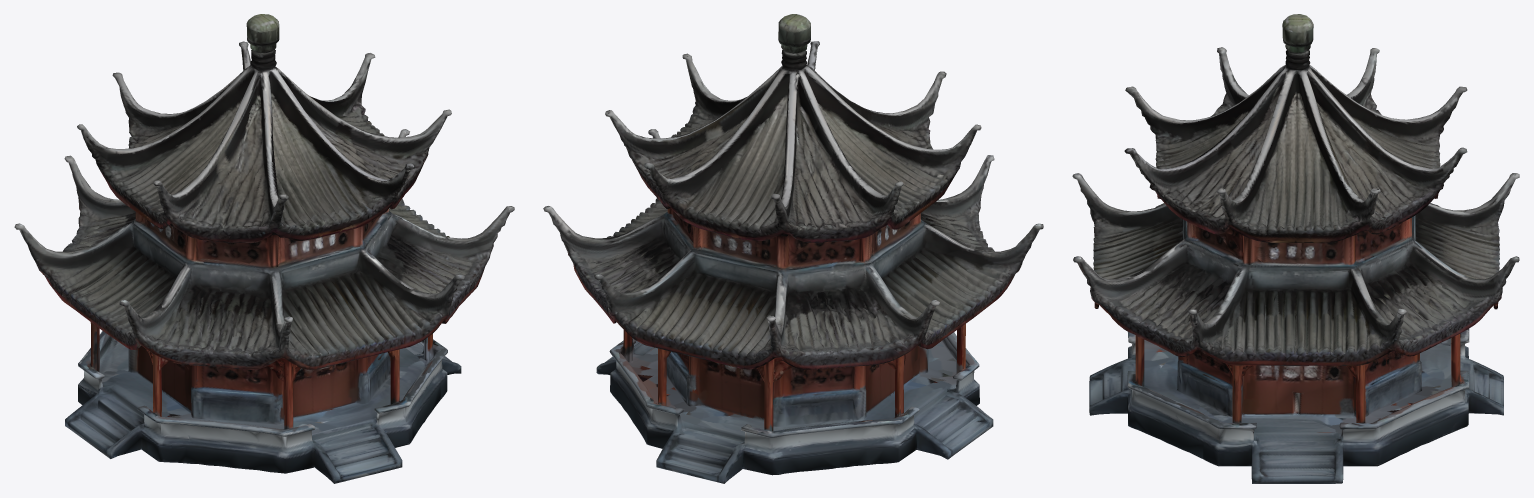
File: guoruting.glb
3 views of the same model, side by side, from view 1: azimuth 30°, elevation 25°; view 2: azimuth 150°, elevation 25°; view 3: azimuth 270°, elevation 25° (orthographic).
Visible parts, largest first — view 1: texture_v128.001_0; view 2: texture_v128.001_0; view 3: texture_v128.001_0.
Boxes of the visible parts, left/top/right/bottom form: texture_v128.001_0: left=14, top=14, right=514, bottom=483; texture_v128.001_0: left=543, top=14, right=1043, bottom=483; texture_v128.001_0: left=1072, top=14, right=1519, bottom=483.
Size of the model in its own units: 0.9529 by 0.8804 by 0.9373.
Materials: 1 (1 with a texture image).
